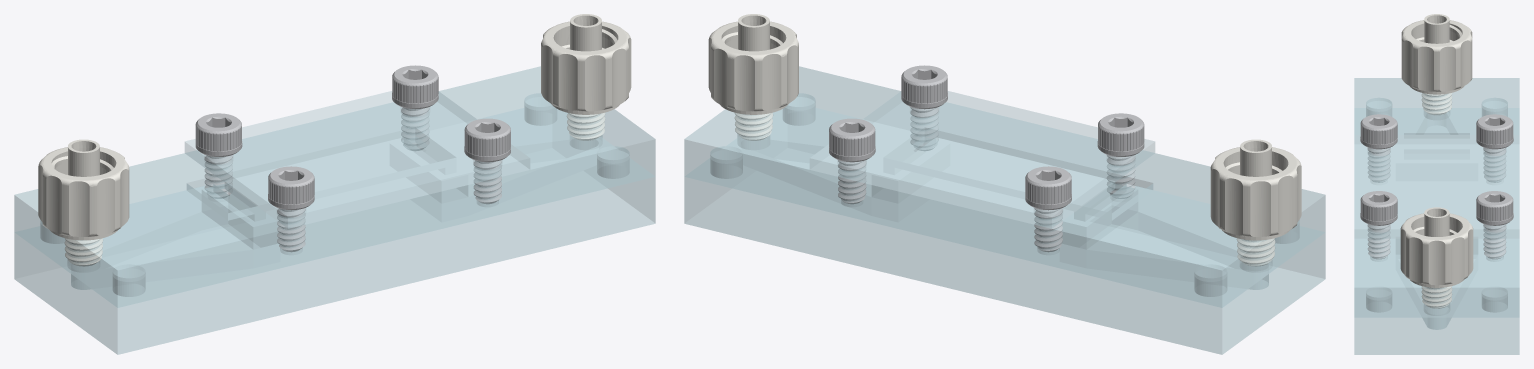
Rendered from meioflume.glb.
The picture shows the model from 3 angles, left to right: view 1: azimuth 30°, elevation 25°; view 2: azimuth 150°, elevation 25°; view 3: azimuth 270°, elevation 25°; orthographic projection. The views are drawn at different scales.
Parts seen in each view (by area): view 1: =>[0:1:1:5], Bottom Plate:1, =>[0:1:1:8], 92185A144_Super-Corrosion-Resistant 316 Stainless Steel Sock (×4), 51525K431_Plastic Quick-Turn Tube Coupling:2, 51525K431_Plastic Quick-Turn Tube Coupling:1; view 2: =>[0:1:1:5], Bottom Plate:1, =>[0:1:1:8], 92185A144_Super-Corrosion-Resistant 316 Stainless Steel Sock (×4), 51525K431_Plastic Quick-Turn Tube Coupling:2, 51525K431_Plastic Quick-Turn Tube Coupling:1; view 3: =>[0:1:1:5], Bottom Plate:1, =>[0:1:1:8], 92185A144_Super-Corrosion-Resistant 316 Stainless Steel Sock (×4), 51525K431_Plastic Quick-Turn Tube Coupling:1, 51525K431_Plastic Quick-Turn Tube Coupling:2.
Boxes of the visible parts, bbox=[...] form: =>[0:1:1:5]: bbox=[14, 66, 655, 307]; Bottom Plate:1: bbox=[14, 97, 655, 354]; =>[0:1:1:8]: bbox=[185, 91, 529, 228]; 92185A144_Super-Corrosion-Resistant 316 Stainless Steel Sock (×4): bbox=[195, 65, 510, 251]; 51525K431_Plastic Quick-Turn Tube Coupling:2: bbox=[38, 139, 129, 266]; 51525K431_Plastic Quick-Turn Tube Coupling:1: bbox=[541, 14, 631, 140]; =>[0:1:1:5]: bbox=[684, 66, 1325, 307]; Bottom Plate:1: bbox=[684, 97, 1325, 354]; =>[0:1:1:8]: bbox=[810, 91, 1154, 228]; 92185A144_Super-Corrosion-Resistant 316 Stainless Steel Sock (×4): bbox=[829, 65, 1144, 251]; 51525K431_Plastic Quick-Turn Tube Coupling:2: bbox=[1210, 139, 1301, 266]; 51525K431_Plastic Quick-Turn Tube Coupling:1: bbox=[708, 14, 798, 140]; =>[0:1:1:5]: bbox=[1354, 78, 1519, 317]; Bottom Plate:1: bbox=[1354, 101, 1519, 354]; =>[0:1:1:8]: bbox=[1354, 135, 1519, 238]; 92185A144_Super-Corrosion-Resistant 316 Stainless Steel Sock (×4): bbox=[1360, 114, 1513, 258]; 51525K431_Plastic Quick-Turn Tube Coupling:1: bbox=[1400, 207, 1473, 308]; 51525K431_Plastic Quick-Turn Tube Coupling:2: bbox=[1401, 14, 1472, 114].
Bounding box in the file's own units: 0.0821 × 0.0229 × 0.0254.
